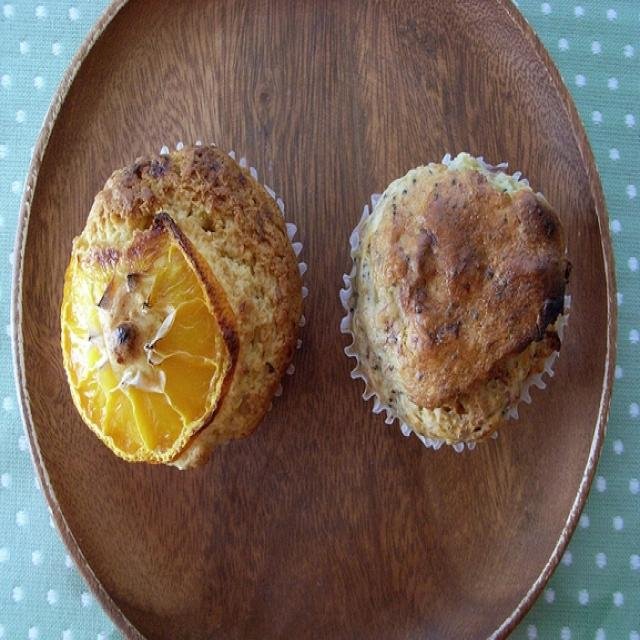炸货点心: (13, 7, 619, 637)
面包点心: (13, 7, 619, 637)
